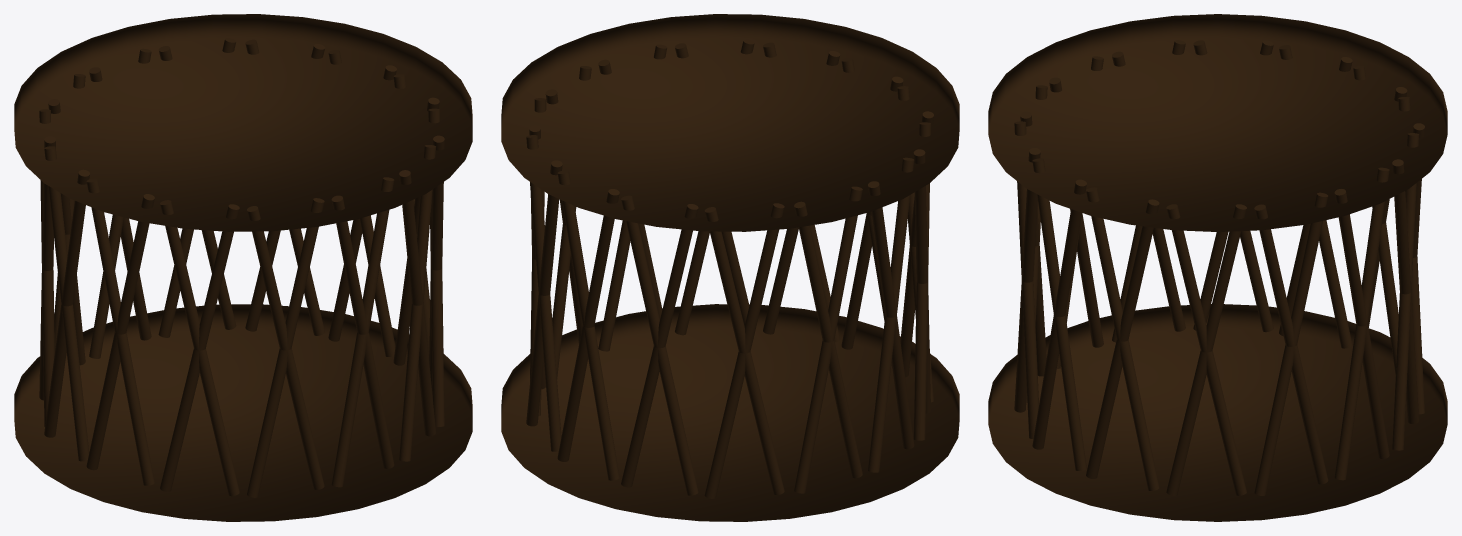
The model's file is table.gltf.
3 views of the same model, side by side, from view 1: azimuth 30°, elevation 25°; view 2: azimuth 150°, elevation 25°; view 3: azimuth 270°, elevation 25° (orthographic).
Parts seen in each view (by area): view 1: Cylinder.008; view 2: Cylinder.008; view 3: Cylinder.008.
Part boxes in pixels (x1,y1,x2,y2): Cylinder.008: (14, 14, 472, 521); Cylinder.008: (501, 14, 959, 521); Cylinder.008: (988, 14, 1447, 521).
Bounding box in the file's own units: 0.2923 × 0.2205 × 0.2923.
